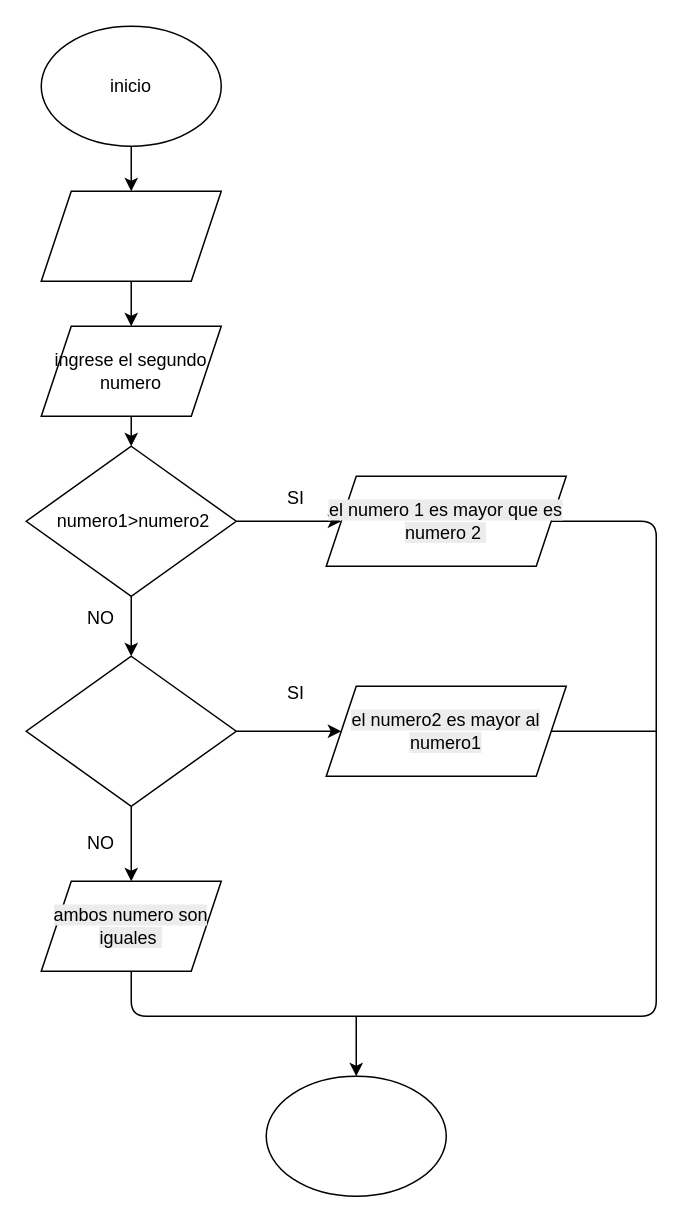
This 684x1223 diagram has some shape labels left out. The box of each missing label's shape, as (x1, y1, x2, y2) in pixels:
FIN: (265, 1075, 446, 1196)
ingrese el primer numero: (40, 190, 221, 281)
numero2>numero1: (25, 655, 236, 806)
